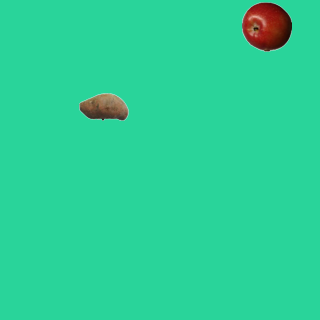Apple Braeburn: (241, 1, 291, 51)
Potato Sweet: (78, 81, 128, 131)
